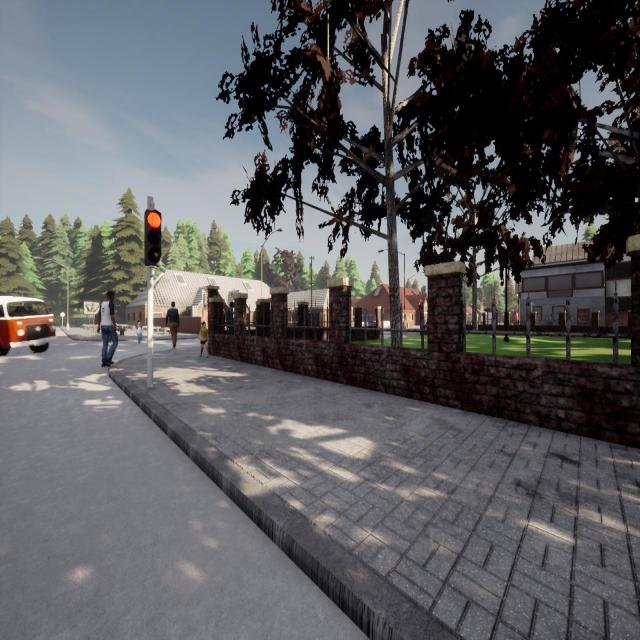Pedestrian: (96, 290, 118, 368), (165, 301, 180, 349), (200, 321, 209, 358), (227, 301, 234, 330), (136, 320, 142, 343)
Traffic_Signs: (60, 312, 66, 318)
Vehicle: (0, 296, 55, 355)
traffic_light: (145, 209, 161, 265), (203, 294, 207, 308), (418, 302, 421, 310)
